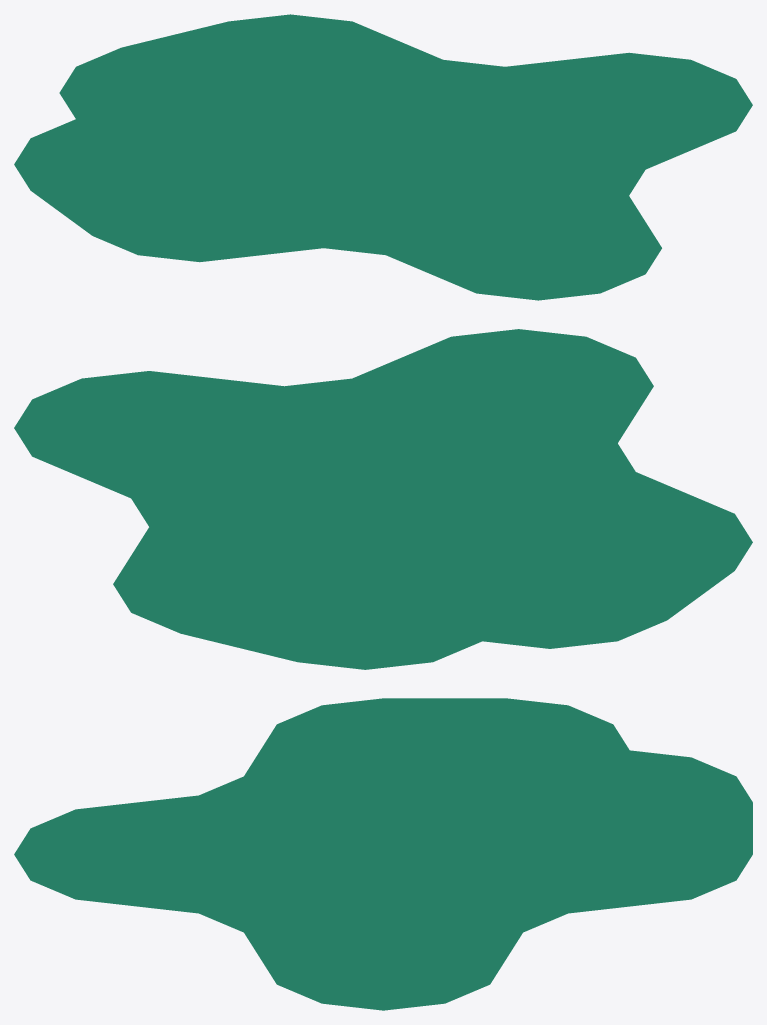
Rendered from patch-grass.obj.
3 renders of one model, top to bottom at view 1: azimuth 30°, elevation 25°; view 2: azimuth 150°, elevation 25°; view 3: azimuth 270°, elevation 25°, orthographic. The views are drawn at different scales.
Size of the model in its own units: 1.2 by 0 by 1.2.
